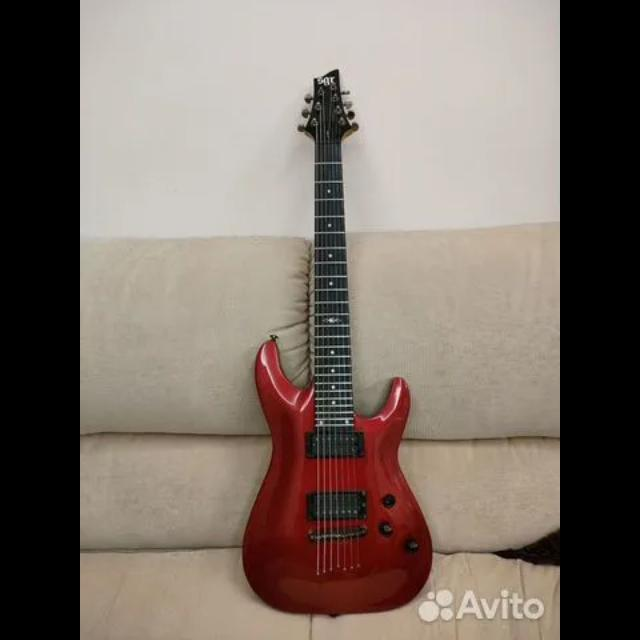Electric-Guitar: (243, 68, 432, 616)
